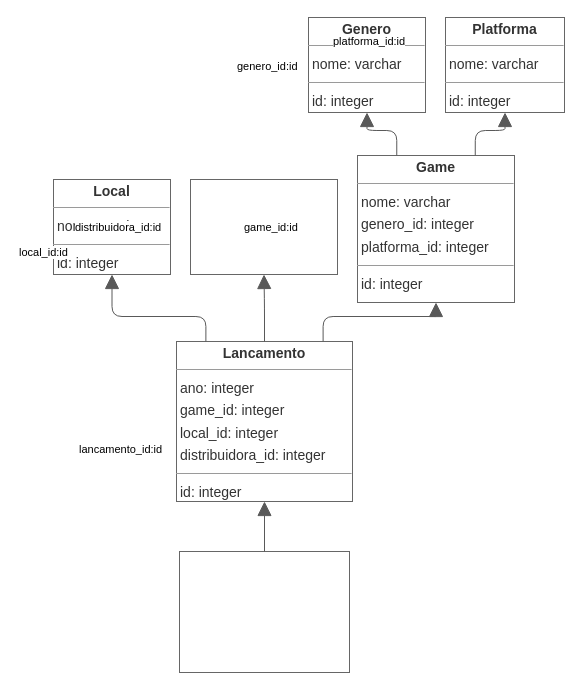
The diagram is 582 pixels wide and 690 high, and some of its shapes have lost their labels. The shapes that lost their labels are listed below. From the top down, each one's centre as x and y in pixels, then its label:
point 264,226: Distribuidora nome: varchar id: integer
point 264,611: Venda lancamento_id: integer quantidade: numeric id: integer
